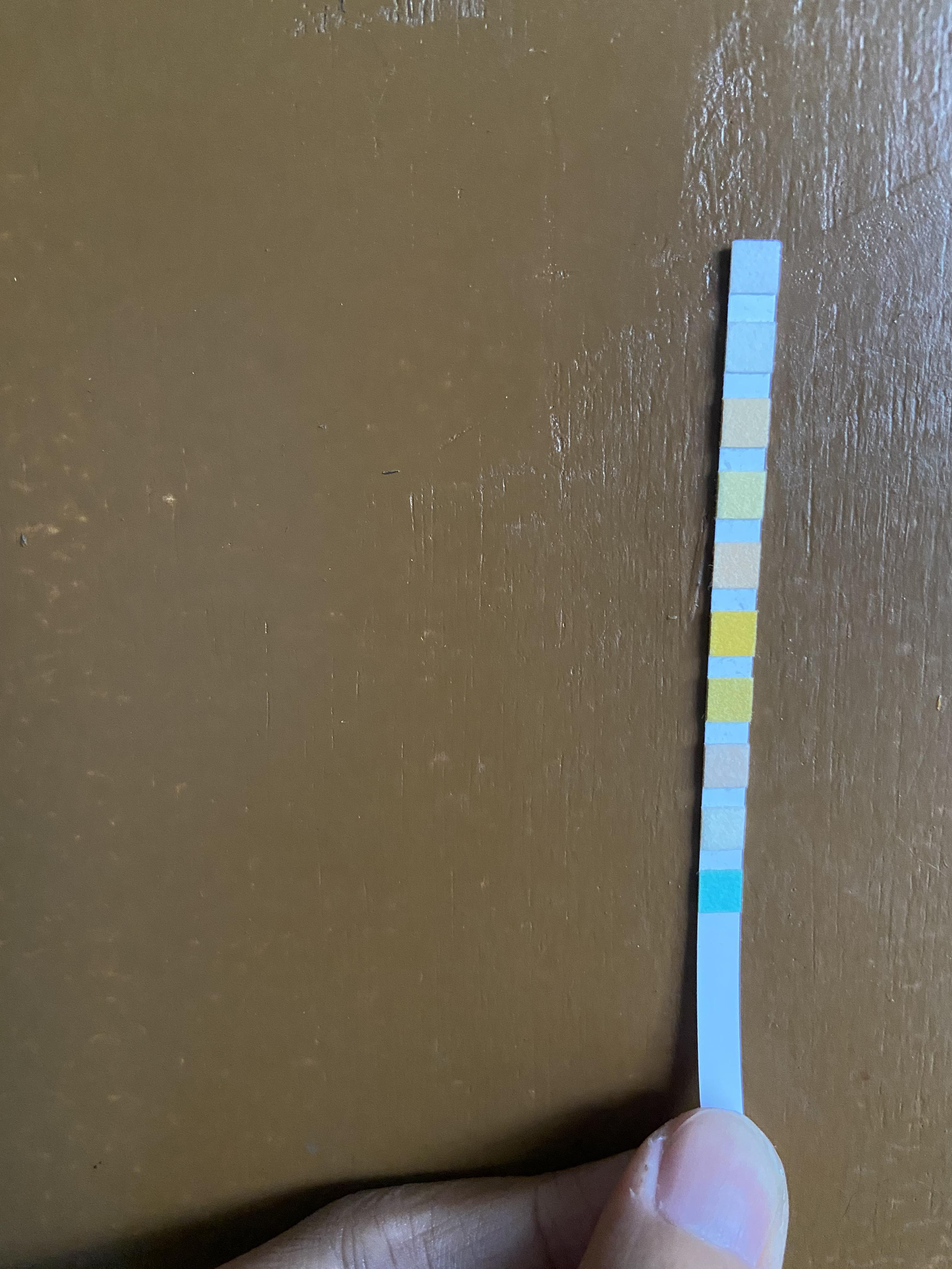Bilirubin: (703, 809, 744, 849)
Blood: (712, 614, 753, 653)
Glucose: (701, 871, 740, 911)
Ketone: (707, 746, 746, 786)
Leukocytes: (734, 242, 777, 292)
Nitrite: (729, 325, 770, 371)
Protein: (720, 473, 761, 516)
SpGravity: (709, 681, 750, 720)
Urobilinogen: (725, 402, 766, 445)
pH: (715, 544, 757, 586)
strip: (696, 241, 781, 1106)
